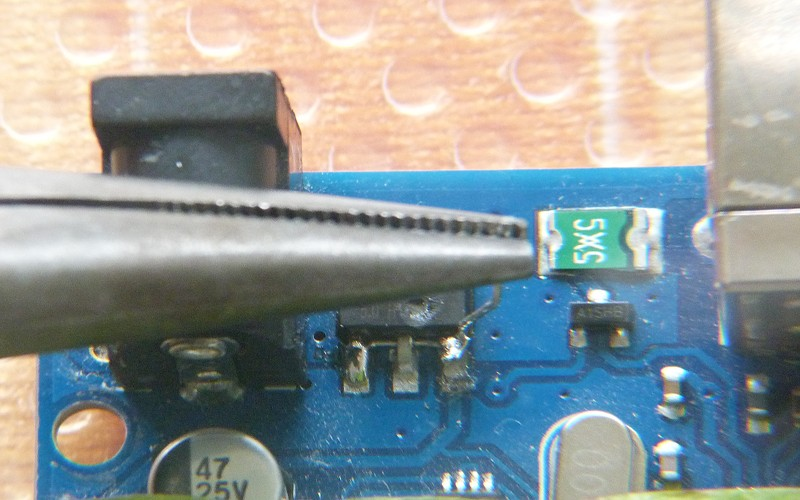Regulator: (525, 192, 687, 377), (308, 264, 494, 381)
